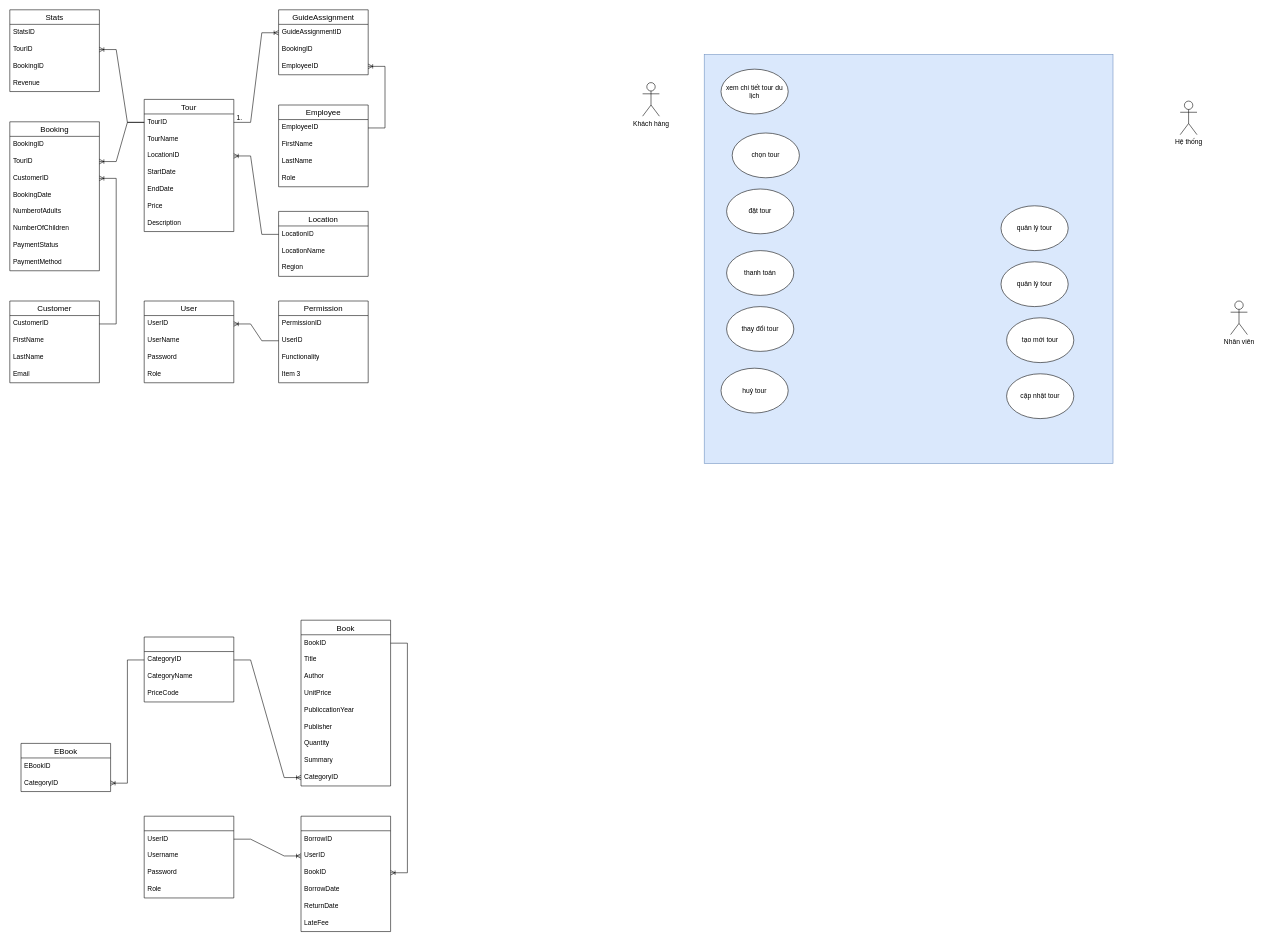
This 1264x943 diagram has some shape labels left out. The box of each missing label's shape, as (x1, y1, x2, y2) in pixels:
BookCategory: (144, 636, 234, 702)
BorrowRecord: (300, 816, 391, 932)
LibraryUser: (144, 816, 234, 898)
